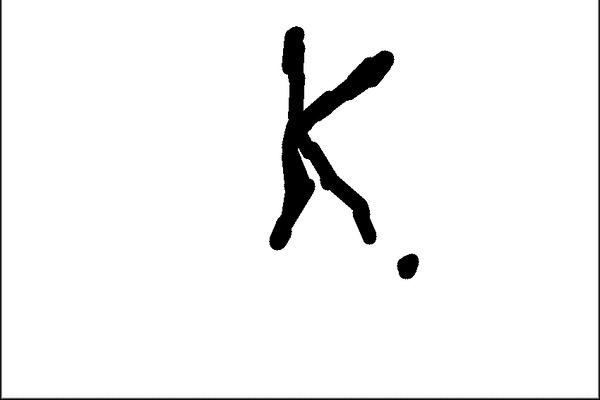K: (260, 20, 398, 254)
